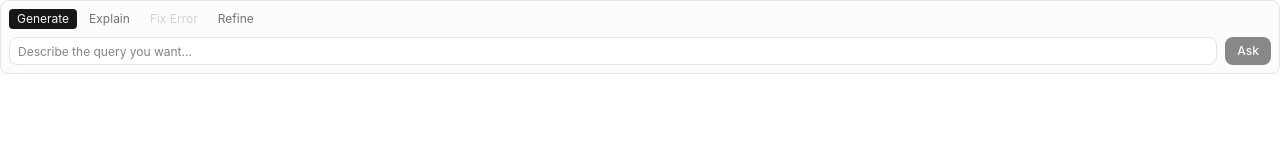
Test: AiPromptBar — handleAsk (generate) › trims whitespace from result
Type "test" into the field with placeholder "Describe the query you want…". click: x=613, y=51
box: [9,37,1217,65]
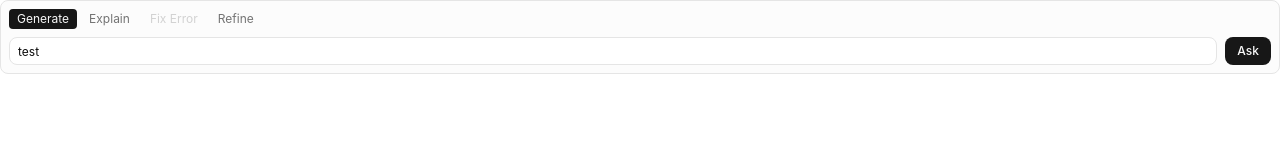
Click the button "Ask". click: x=1248, y=51
box: [1225,37,1271,65]
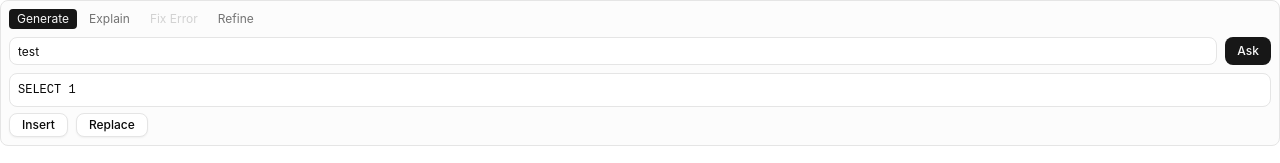
expect the text "SELECT 1" is shown: met, box [9,73,1271,107]
